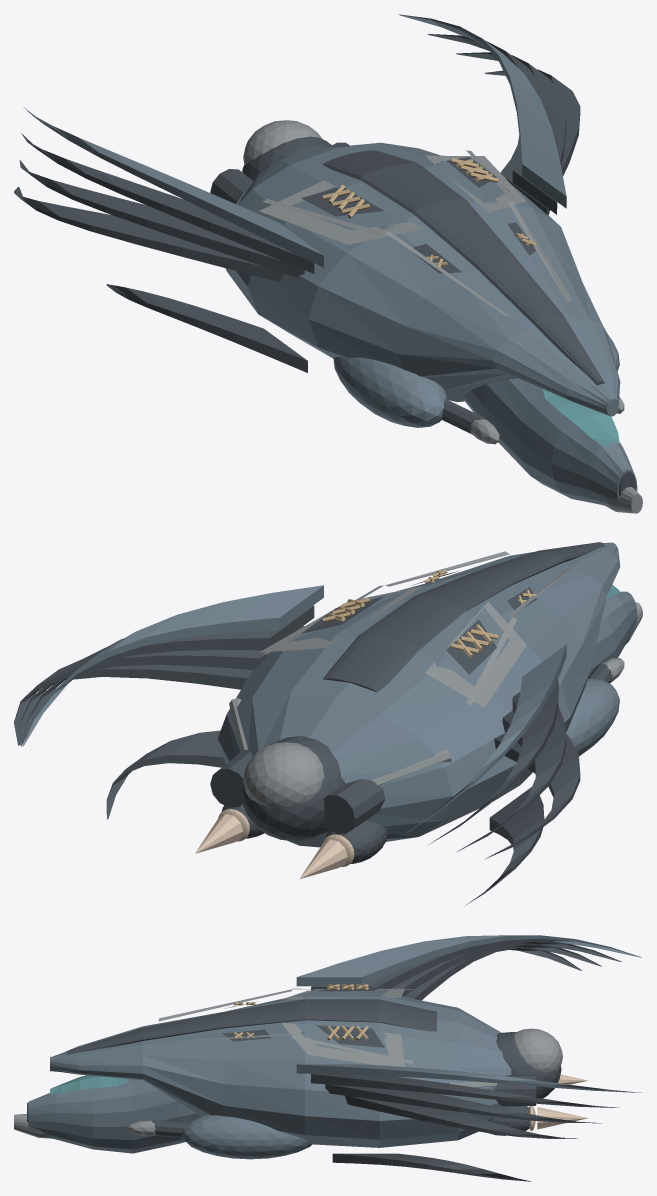
Rendered from thrill_blue_flight.glb.
3 renders of one model, top to bottom at view 1: azimuth 30°, elevation 25°; view 2: azimuth 150°, elevation 25°; view 3: azimuth 270°, elevation 25°, orthographic. The views are drawn at different scales.
Parts seen in each view (by area): view 1: hull_0, hull_1, hull_2, wing_R_pivot_blade0, wing_L_pivot_blade0, wing_L_pivot_blade2, wing_L_pivot_blade1, wing_L_pivot_blade3, fin_L_pivot_blade1, wing_R_pivot_blade1, hull_3, wing_R_pivot_blade2 (+2 smaller); view 2: hull_0, hull_1, hull_2, wing_R_pivot_blade0, wing_R_pivot_blade1, wing_R_pivot_blade3, wing_L_pivot_blade0, wing_R_pivot_blade2, hull_5, fin_R_pivot_blade1, fin_L_pivot_blade1, wing_L_pivot_blade1 (+3 smaller); view 3: hull_0, hull_1, hull_2, wing_L_pivot_blade0, wing_R_pivot_blade1, wing_R_pivot_blade0, wing_R_pivot_blade2, wing_R_pivot_blade3, fin_R_pivot_blade1, wing_L_pivot_blade1, wing_L_pivot_blade2, wing_L_pivot_blade3 (+3 smaller).
Boxes of the visible parts, x1,y1,x2,y2 form: hull_0: (225,142,637,505); hull_1: (210,136,636,495); hull_2: (236,120,642,513); wing_R_pivot_blade0: (399,14,566,208); wing_L_pivot_blade0: (23,107,323,267); wing_L_pivot_blade2: (19,160,304,277); wing_L_pivot_blade1: (21,133,314,273); wing_L_pivot_blade3: (14,187,284,282); fin_L_pivot_blade1: (106,284,307,372); wing_R_pivot_blade1: (427,34,558,214); hull_3: (542,389,619,447); wing_R_pivot_blade2: (456,52,566,214); hull_0: (217,542,637,847); hull_1: (210,542,612,863); hull_2: (229,551,642,808); wing_R_pivot_blade0: (22,585,323,746); wing_R_pivot_blade1: (21,605,314,746); wing_R_pivot_blade3: (14,660,252,745); wing_L_pivot_blade0: (400,644,566,837); wing_R_pivot_blade2: (19,626,304,745); hull_5: (195,809,354,879); fin_R_pivot_blade1: (106,730,225,819); fin_L_pivot_blade1: (465,787,544,905); wing_L_pivot_blade1: (428,679,558,844); hull_0: (28,989,511,1159); hull_1: (27,986,561,1137); hull_2: (14,988,562,1138); wing_L_pivot_blade0: (296,935,641,986); wing_R_pivot_blade1: (311,1074,619,1107); wing_R_pivot_blade0: (296,1064,641,1092); wing_R_pivot_blade2: (325,1084,601,1123); wing_R_pivot_blade3: (345,1095,577,1138); fin_R_pivot_blade1: (332,1153,531,1181); wing_L_pivot_blade1: (311,939,621,990); wing_L_pivot_blade2: (390,943,601,996); wing_L_pivot_blade3: (404,946,581,1000).
Size of the model in its own units: 3.07 by 1.12 by 4.39.
